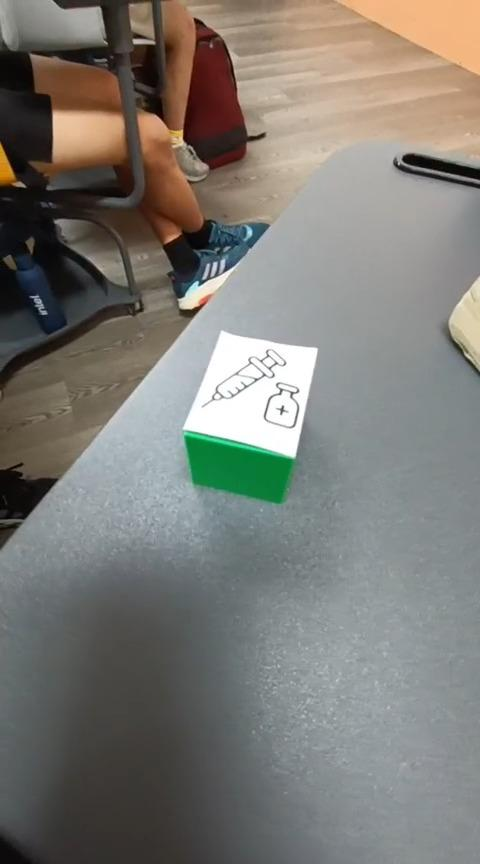antiseptic cream: (181, 328, 319, 504)
